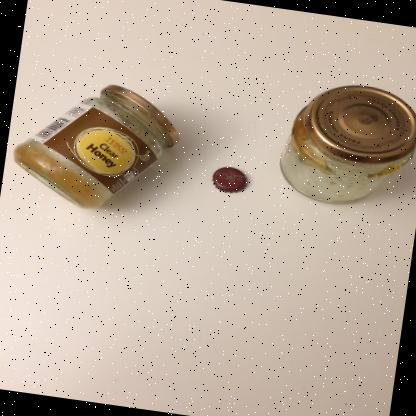Glass jar: (13, 84, 179, 208), (279, 85, 416, 203)
Metal bottle cap: (211, 167, 248, 193)
Metal lid: (303, 85, 416, 165), (101, 84, 179, 147)
